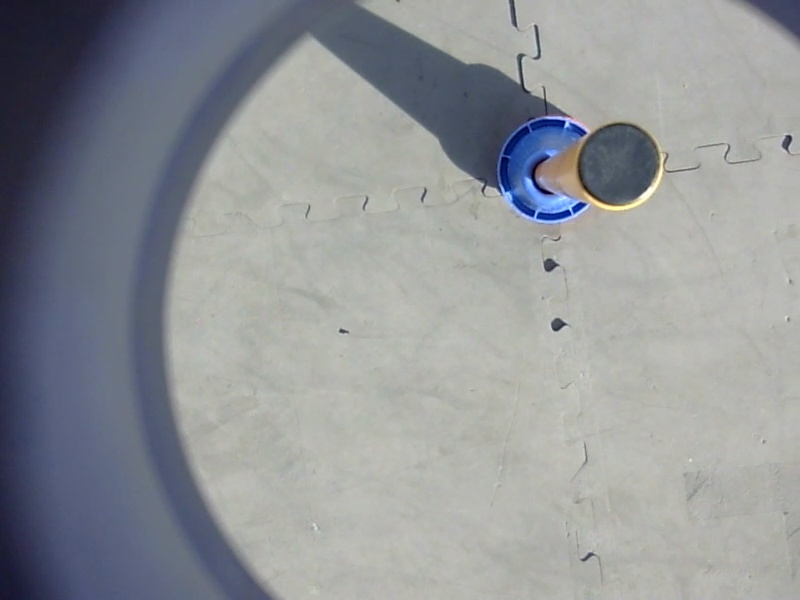tip: (571, 116, 668, 218)
